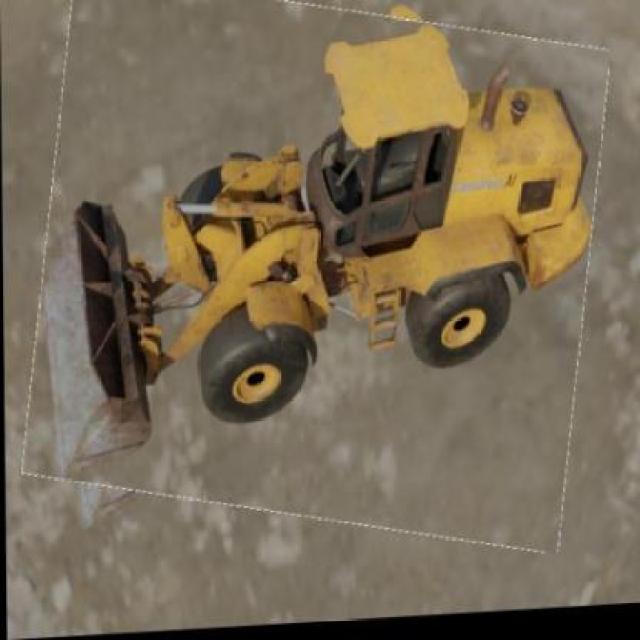buldozerpayloadergrader: (38, 22, 597, 464)
